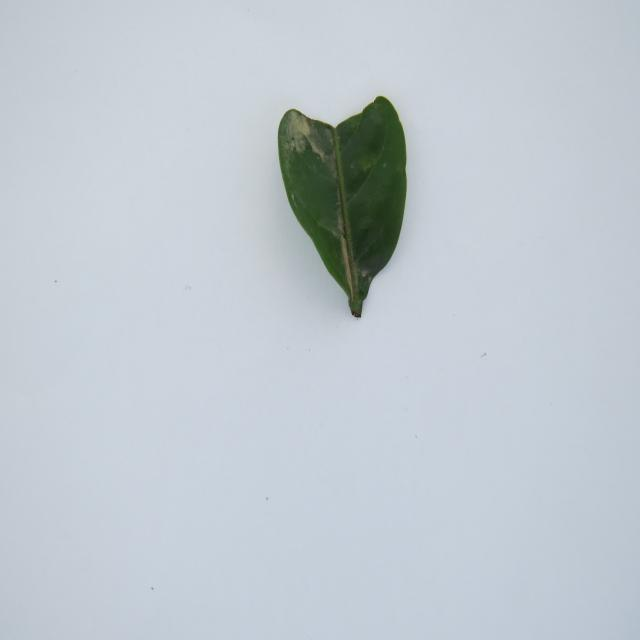DeficienciaNutricional-Boro: (278, 97, 406, 317)
